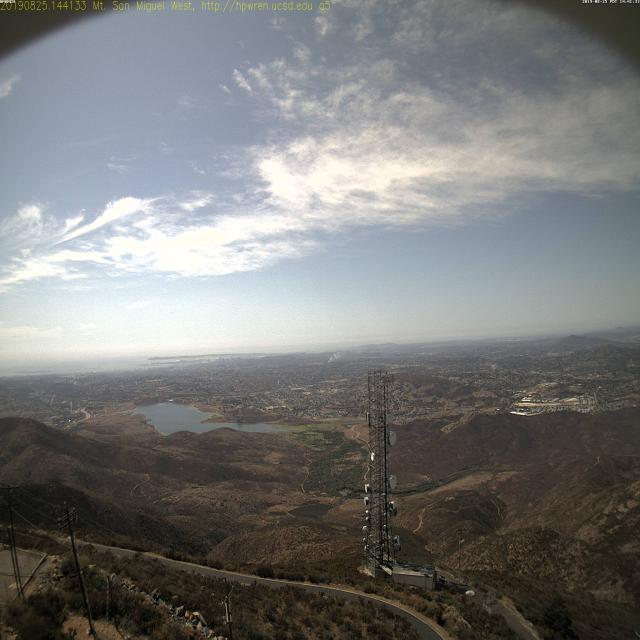smoke: (324, 346, 343, 365)
